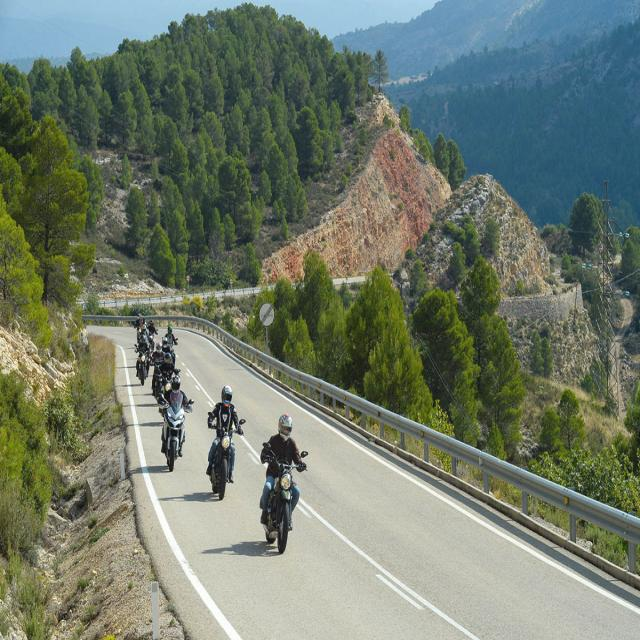MOTORCYCLE: (261, 465, 300, 549), (212, 422, 234, 497), (165, 398, 187, 470), (138, 348, 150, 388)
